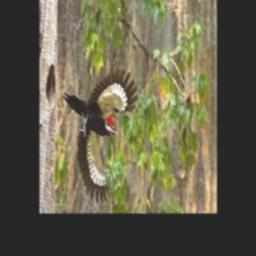Woodpecker: (63, 67, 141, 201)
